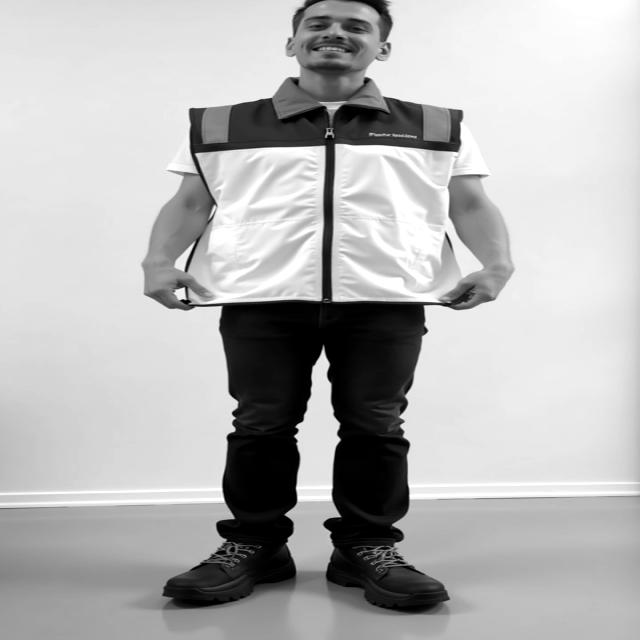Boots: (318, 542, 466, 615), (155, 537, 295, 603)
Vest: (194, 105, 457, 302)
